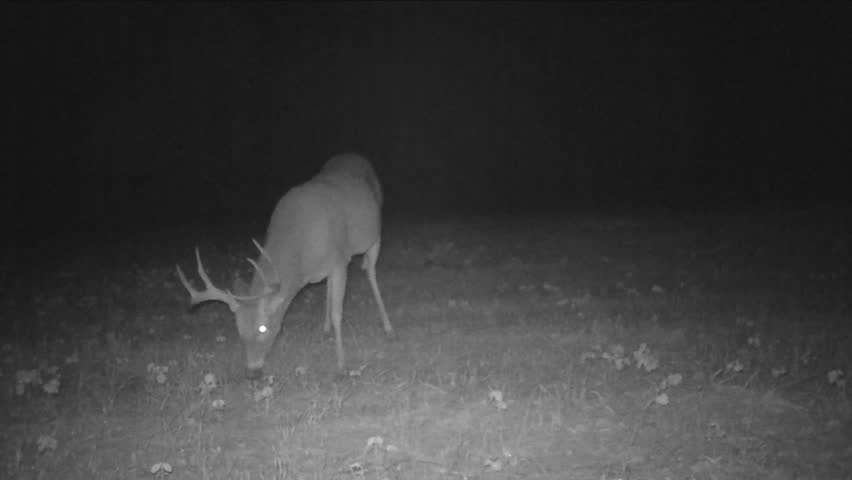deer: (170, 159, 390, 417)
